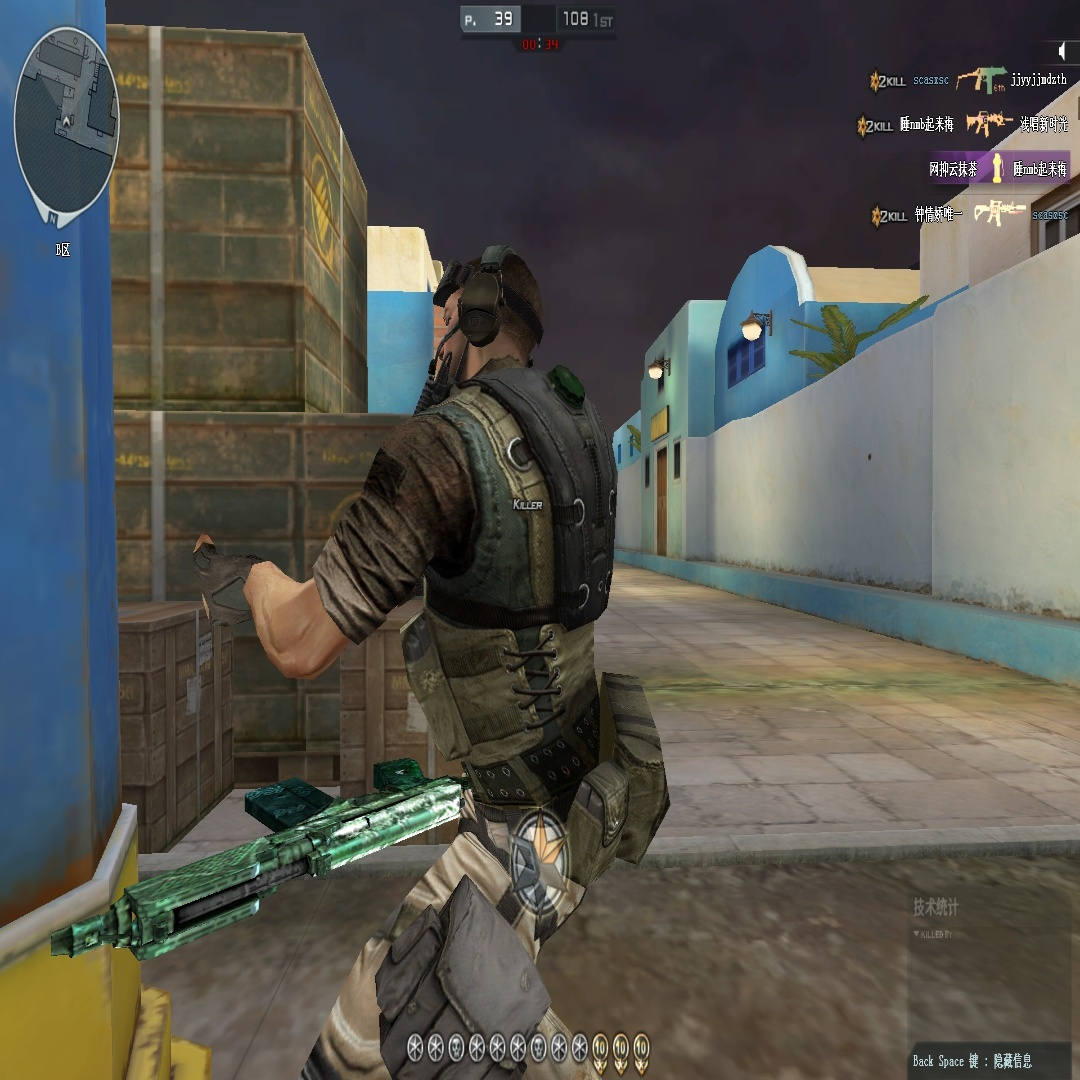head: (430, 249, 536, 391)
p: (191, 246, 670, 1050)
